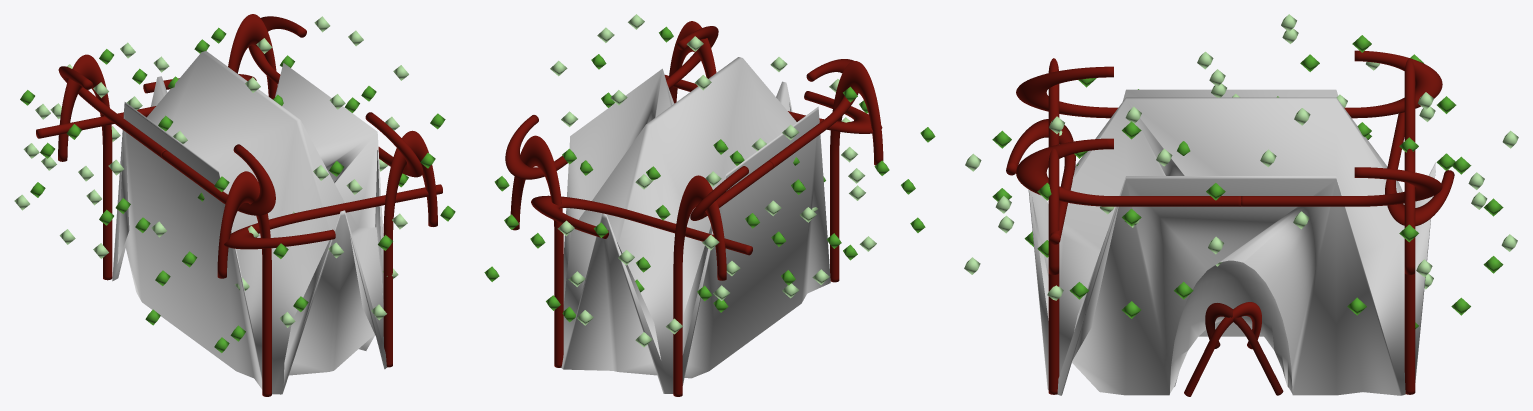
File: peppermintMine.obj
3 renders of one model, left to right at view 1: azimuth 30°, elevation 25°; view 2: azimuth 150°, elevation 25°; view 3: azimuth 270°, elevation 25°, orthographic. The views are drawn at different scales.
Visible parts, largest first — view 1: Box001, CandyCane003, CandyCane, CandyCane010, CandyCane002, CandyCane009, GeoSphere006, CandyCane001, CandyCane008, GeoSphere004, GeoSphere003, CandyCane005 (+7 smaller); view 2: Box001, CandyCane002, CandyCane003, CandyCane001, CandyCane011, GeoSphere006, CandyCane009, GeoSphere003, CandyCane008, CandyCane010, GeoSphere007, GeoSphere001 (+7 smaller); view 3: Box001, CandyCane005, CandyCane004, CandyCane, CandyCane001, CandyCane009, CandyCane008, CandyCane011, CandyCane010, GeoSphere002, GeoSphere008, CandyCane006 (+9 smaller).
Part boxes in pixels (left/top/right/bottom): Box001: left=112, top=51, right=386, bottom=394; CandyCane003: left=217, top=171, right=271, bottom=396; CandyCane: left=383, top=130, right=437, bottom=367; CandyCane010: left=224, top=184, right=442, bottom=249; CandyCane002: left=58, top=54, right=112, bottom=280; CandyCane009: left=161, top=144, right=275, bottom=215; GeoSphere006: left=14, top=82, right=187, bottom=258; CandyCane001: left=228, top=14, right=277, bottom=99; CandyCane008: left=58, top=66, right=167, bottom=157; GeoSphere004: left=135, top=176, right=308, bottom=352; GeoSphere003: left=20, top=49, right=178, bottom=225; CandyCane005: left=365, top=112, right=422, bottom=177; Box001: left=561, top=57, right=830, bottom=393; CandyCane002: left=673, top=175, right=726, bottom=396; CandyCane003: left=830, top=61, right=883, bottom=282; CandyCane001: left=510, top=135, right=563, bottom=367; CandyCane011: left=531, top=195, right=752, bottom=255; GeoSphere006: left=705, top=124, right=876, bottom=298; CandyCane009: left=767, top=59, right=858, bottom=168; GeoSphere003: left=636, top=139, right=805, bottom=312; CandyCane008: left=690, top=161, right=773, bottom=220; CandyCane010: left=664, top=75, right=882, bottom=133; GeoSphere007: left=557, top=174, right=729, bottom=347; GeoSphere001: left=484, top=148, right=644, bottom=322; Box001: left=1028, top=89, right=1435, bottom=395; CandyCane005: left=1016, top=138, right=1241, bottom=206; CandyCane004: left=1241, top=167, right=1442, bottom=206; CandyCane: left=1048, top=148, right=1059, bottom=394; CandyCane001: left=1404, top=148, right=1415, bottom=394; CandyCane009: left=1016, top=66, right=1117, bottom=118; CandyCane008: left=1344, top=50, right=1442, bottom=118; CandyCane011: left=1385, top=112, right=1454, bottom=226; CandyCane010: left=1006, top=119, right=1075, bottom=244; GeoSphere002: left=1037, top=121, right=1225, bottom=318; GeoSphere008: left=1124, top=69, right=1310, bottom=266; CandyCane006: left=1184, top=302, right=1261, bottom=396.
Bounding box in the file's own units: 62.24 × 50.12 × 76.8.
